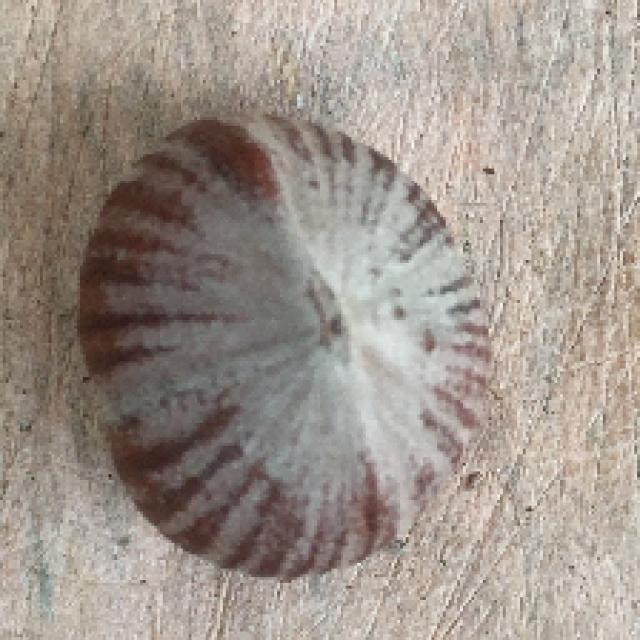qualityHazelnut: (75, 97, 500, 582)
